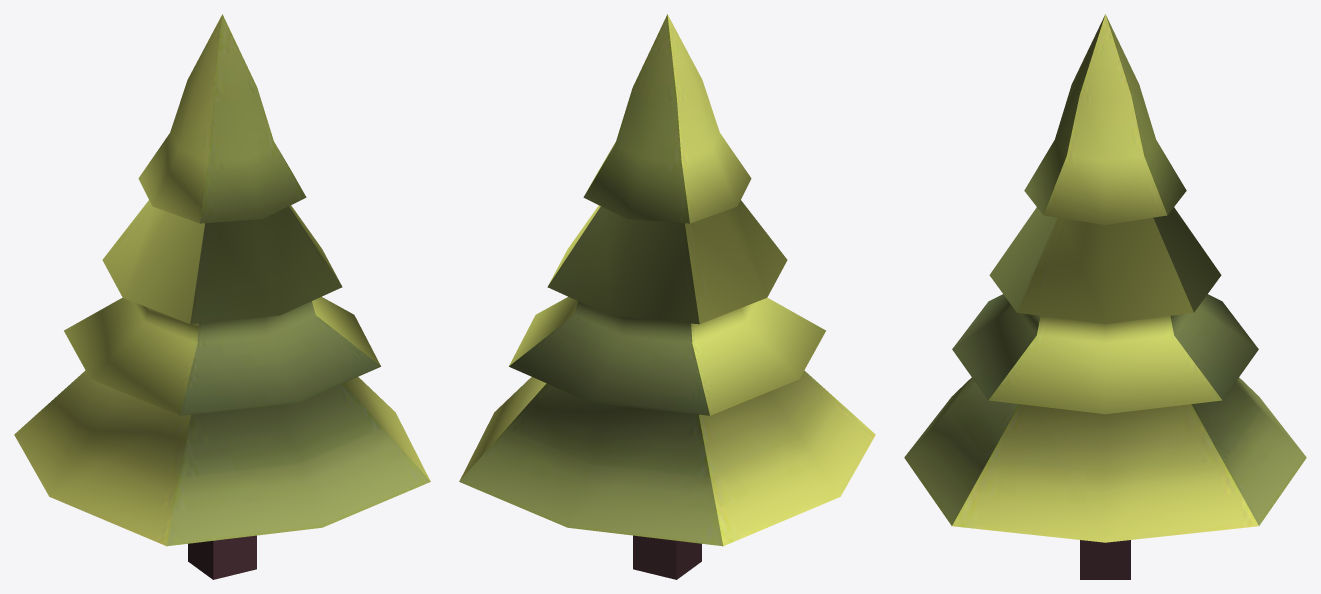
The model's file is tree02.FBX.
3 renders of one model, left to right at view 1: azimuth 30°, elevation 25°; view 2: azimuth 150°, elevation 25°; view 3: azimuth 270°, elevation 25°, orthographic.
Parts seen in each view (by area): view 1: Box022; view 2: Box022; view 3: Box022.
Boxes of the visible parts, x1,y1,x2,y2 form: Box022: (14, 14, 430, 579); Box022: (459, 14, 875, 579); Box022: (904, 14, 1306, 579).
Size of the model in its own units: 25.71 by 39.12 by 25.71.
